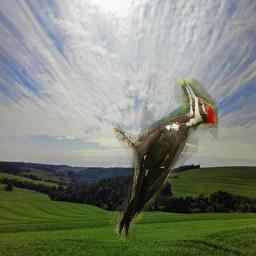Woodpecker: (109, 79, 218, 240)
